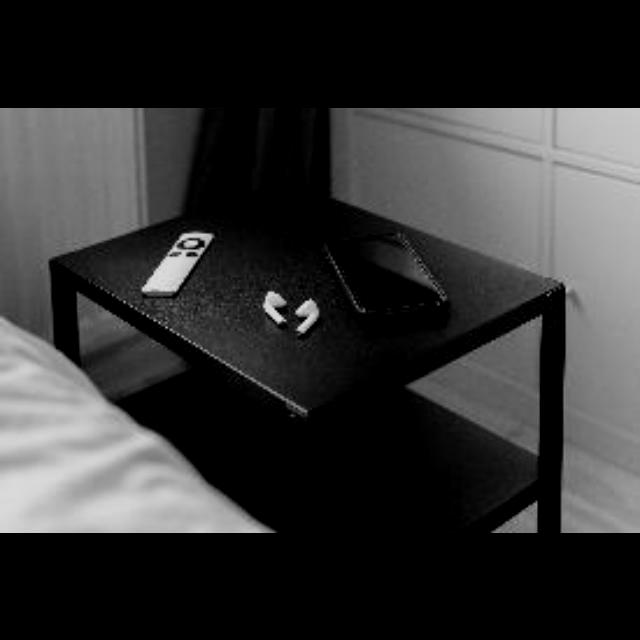fake: (310, 214, 471, 339)
